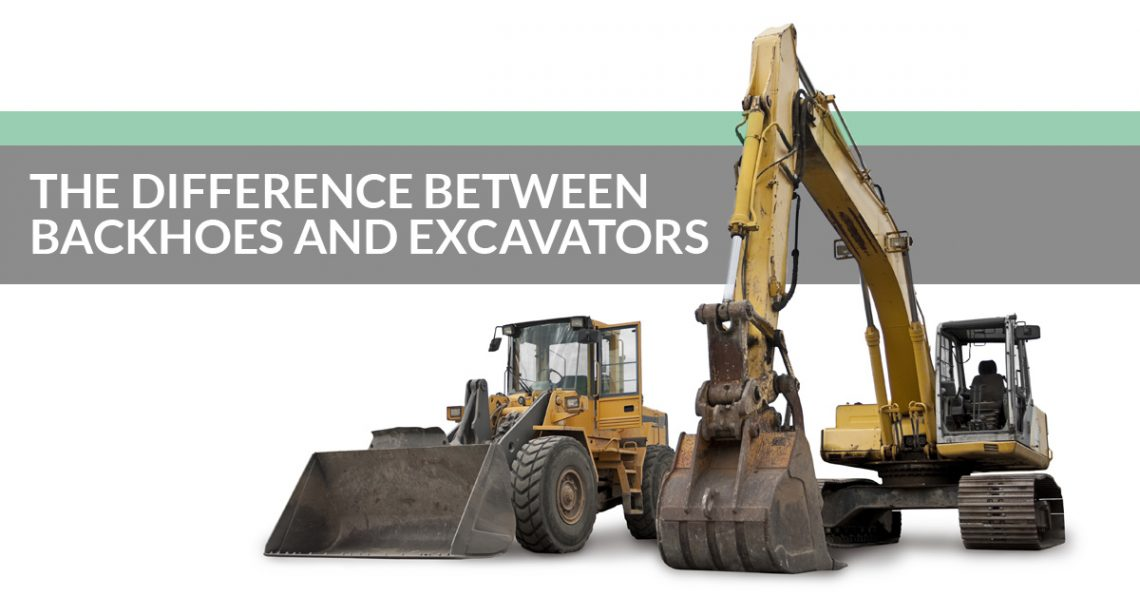backhoe: (675, 17, 1068, 572)
